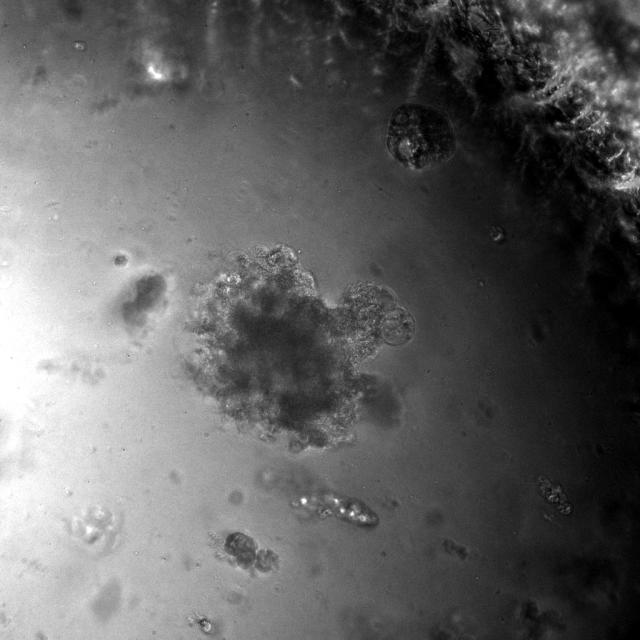organoid: (187, 244, 415, 450), (259, 468, 378, 526), (386, 103, 455, 169), (209, 531, 279, 573), (122, 273, 166, 324), (518, 600, 566, 639), (538, 475, 572, 514), (186, 612, 216, 634), (442, 539, 469, 560), (113, 250, 129, 267)
